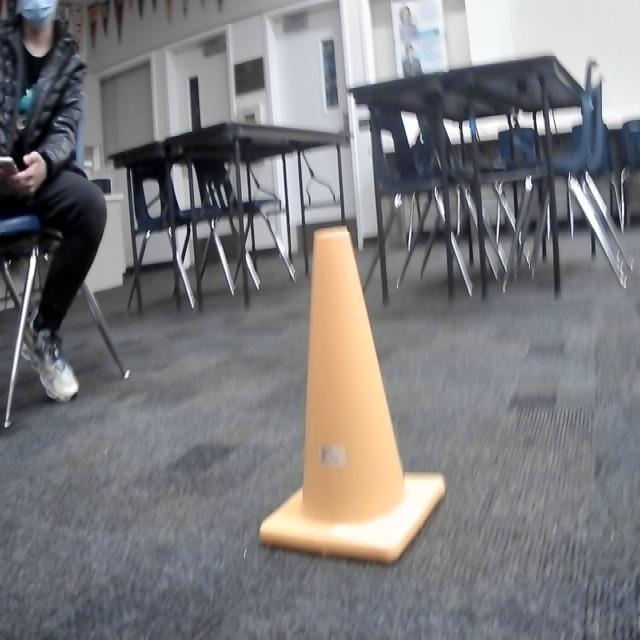cone: (247, 222, 456, 582)
